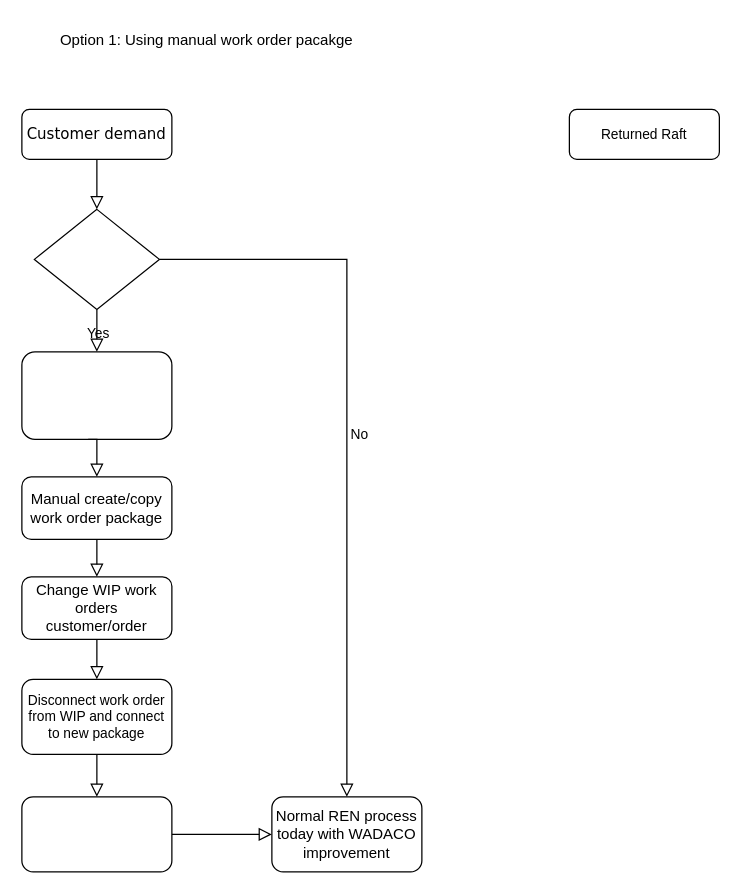
The diagram is 741 pixels wide and 894 high, and some of its shapes have lost their labels. The shapes that lost their labels are listed below. From the top down, each one's box as (x1, y1, x2, y2) in pixels, then its label:
(33, 208, 159, 309): Sufficent Pre service raft?
(21, 351, 172, 439): open work orders selection by type/manufacturing date and barcode
(21, 796, 172, 872): Release customer order
